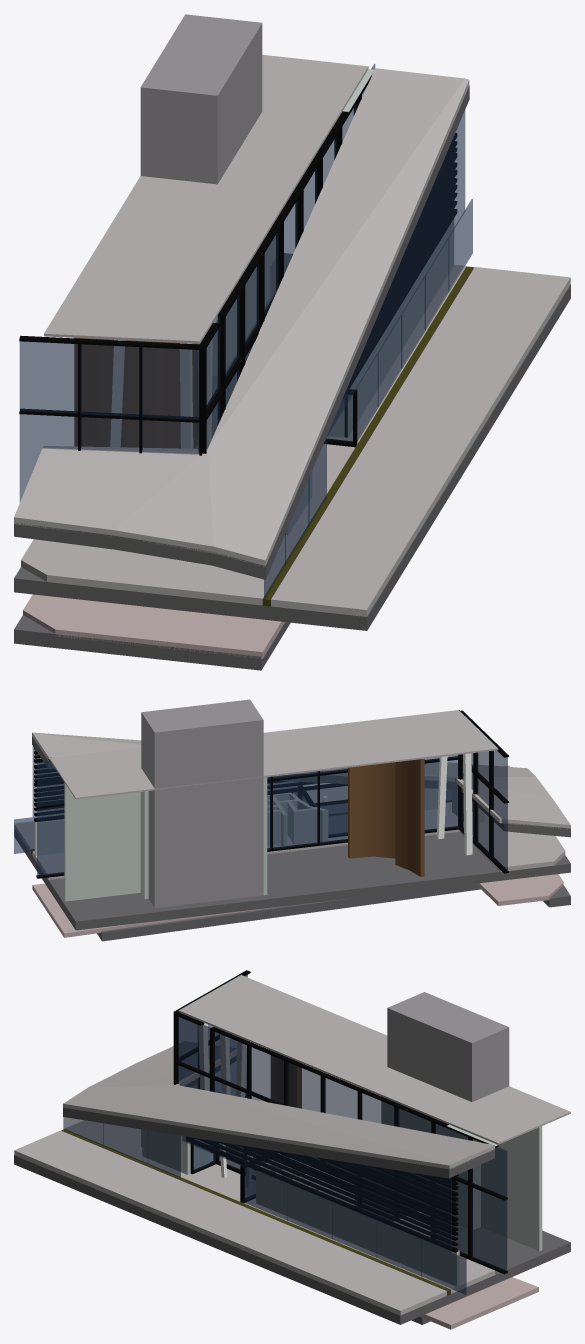
3 renders of one model, top to bottom at view 1: azimuth 30°, elevation 25°; view 2: azimuth 150°, elevation 25°; view 3: azimuth 270°, elevation 25°, orthographic. The views are drawn at different scales.
Visible parts, largest first — view 1: Object_3_Paint (1)_0, Object_129_Paint (1)_0, Object_130_Paint (1)_0, Object_1_Paint (4)_0, Object_97_Paint (1)_0, Object_4_Paint_0, Object_96_Paint (9)_0, Object_94_Glass_0, Object_134_Paint_0, Object_161_Paint (2)_0, Object_95_Metal (1)_0, Object_115_Paint (6)_0 (+24 smaller); view 2: Object_1_Paint (4)_0, Object_4_Paint_0, Object_129_Paint (1)_0, Object_157_Paint (6)_0, Object_3_Paint (1)_0, Object_97_Paint (1)_0, Object_161_Paint (2)_0, Object_2_Paint_0, Object_96_Paint (9)_0, Object_162_Paint (2)_0, Object_64_Glass_0, Object_65_Glass_0 (+20 smaller); view 3: Object_129_Paint (1)_0, Object_130_Paint (1)_0, Object_3_Paint (1)_0, Object_94_Glass_0, Object_1_Paint (4)_0, Object_95_Metal (1)_0, Object_4_Paint_0, Object_115_Paint (6)_0, Object_157_Paint (6)_0, Object_97_Paint (1)_0, Object_134_Paint_0, Object_59_Glass_0 (+27 smaller).
Part boxes in pixels (left/top/right/bottom): Object_3_Paint (1)_0: left=14, top=68, right=469, bottom=566; Object_129_Paint (1)_0: left=44, top=54, right=368, bottom=343; Object_130_Paint (1)_0: left=271, top=267, right=570, bottom=616; Object_1_Paint (4)_0: left=140, top=14, right=262, bottom=184; Object_97_Paint (1)_0: left=21, top=265, right=466, bottom=605; Object_4_Paint_0: left=14, top=253, right=570, bottom=630; Object_96_Paint (9)_0: left=23, top=594, right=285, bottom=658; Object_94_Glass_0: left=326, top=110, right=465, bottom=437; Object_134_Paint_0: left=14, top=85, right=469, bottom=579; Object_161_Paint (2)_0: left=121, top=340, right=197, bottom=448; Object_95_Metal (1)_0: left=342, top=133, right=456, bottom=400; Object_115_Paint (6)_0: left=342, top=219, right=453, bottom=436; Object_1_Paint (4)_0: left=141, top=699, right=263, bottom=907; Object_4_Paint_0: left=14, top=829, right=570, bottom=930; Object_129_Paint (1)_0: left=49, top=710, right=498, bottom=799; Object_157_Paint (6)_0: left=64, top=782, right=140, bottom=901; Object_3_Paint (1)_0: left=32, top=732, right=570, bottom=828; Object_97_Paint (1)_0: left=32, top=802, right=565, bottom=879; Object_161_Paint (2)_0: left=348, top=762, right=395, bottom=858; Object_2_Paint_0: left=97, top=883, right=570, bottom=941; Object_96_Paint (9)_0: left=32, top=874, right=563, bottom=937; Object_162_Paint (2)_0: left=395, top=759, right=424, bottom=876; Object_64_Glass_0: left=273, top=776, right=318, bottom=849; Object_65_Glass_0: left=320, top=772, right=347, bottom=843; Object_129_Paint (1)_0: left=178, top=975, right=570, bottom=1144; Object_130_Paint (1)_0: left=14, top=1130, right=446, bottom=1315; Object_3_Paint (1)_0: left=63, top=1041, right=494, bottom=1169; Object_94_Glass_0: left=182, top=1136, right=451, bottom=1252; Object_1_Paint (4)_0: left=387, top=992, right=509, bottom=1101; Object_95_Metal (1)_0: left=186, top=1137, right=458, bottom=1252; Object_4_Paint_0: left=14, top=1146, right=570, bottom=1324; Object_115_Paint (6)_0: left=256, top=1170, right=459, bottom=1286; Object_157_Paint (6)_0: left=481, top=1126, right=542, bottom=1251; Object_97_Paint (1)_0: left=65, top=1085, right=495, bottom=1293; Object_134_Paint_0: left=63, top=1056, right=494, bottom=1178; Object_59_Glass_0: left=471, top=1187, right=507, bottom=1271.
Size of the model in its own units: 29.8 by 13.85 by 30.
